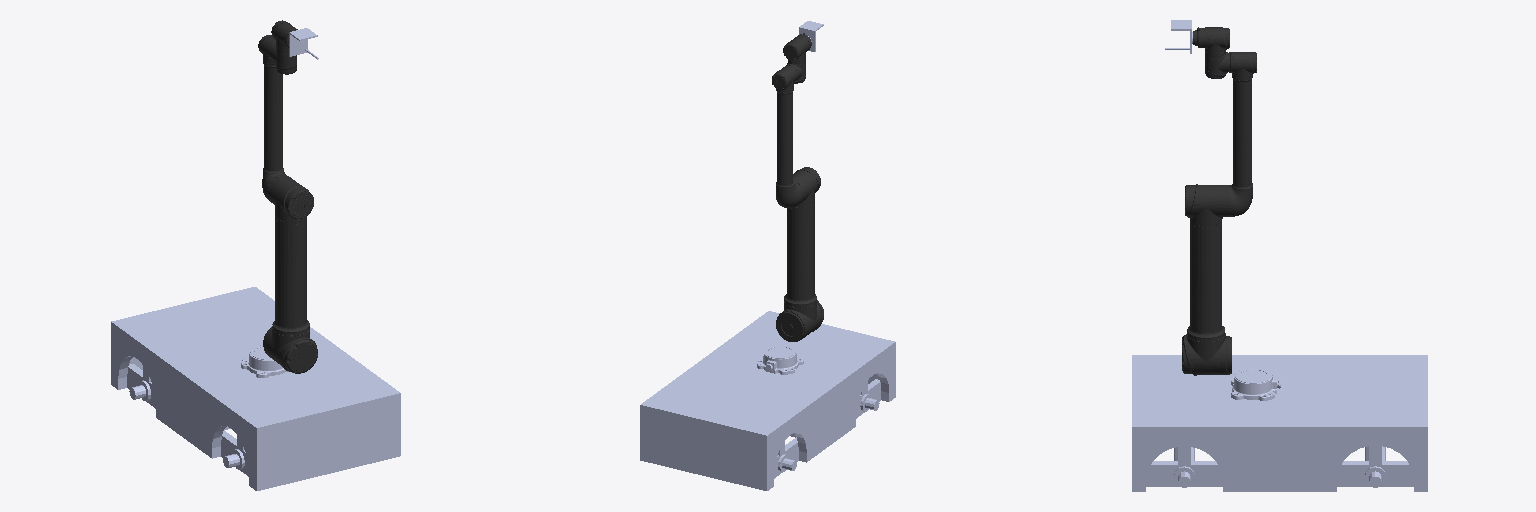
robot.urdf — robot_v2:
<?xml version='1.0' encoding='utf-8'?>
<robot name="robot_v2">
    <link name="virtual_base0">
    </link>
    <link name="virtual_base1">
    </link>
    <joint name="virtual_base_joint1" type="revolute">
      <origin rpy="0 0 0" xyz="0 0 0" />
      <parent link="virtual_base0" />
      <child link="virtual_base1" />
      <axis xyz="0 0 1" />
      <limit effort="87" lower="-999999" upper="999999" velocity="3.5" />
    </joint>
    <joint name="virtual_base_joint2" type="prismatic">
      <origin rpy="0 0 0" xyz="0 0 0" />
      <parent link="virtual_base1" />
      <child link="base_link" />
      <axis xyz="0 1 0" /> 
      <limit effort="87" lower="-999999" upper="999999" velocity="3.5" />
    </joint>
    
  <link name="base_link">
    <inertial> 
      <origin rpy="0 0 0" xyz="-7.22287839337554E-05 -0.00215295361631975 0.324863596005363" />
      <mass value="165.61036422321" />
      <inertia ixx="32.965361421801" ixy="-4.58943188877295E-10" ixz="-2.30197800542194E-10" iyy="12.6332666224088" iyz="-0.000847797837113684" izz="42.003560166963" />
    </inertial>
    <visual>
      <origin rpy="0 0 0" xyz="0 0 0" />
      <geometry>
        <mesh filename="package://robot_description/meshes/base_link.STL" />
      </geometry>
      <material name="">
        <color rgba="0.792156862745098 0.819607843137255 0.933333333333333 1" />
      </material>
    </visual>
    <collision>
      <origin rpy="0 0 0" xyz="0 0 0" />
      <geometry>
        <mesh filename="package://robot_description/meshes/base_link.STL" />
      </geometry>
    </collision>
  </link>
  
  <link name="link1">
    <inertial>
      <origin rpy="0 0 0" xyz="-0.00794920674955624 -1.78415172156048E-05 0.0962050288057547" />
      <mass value="6.3997963235939" />
      <inertia ixx="0.0386968105399522" ixy="3.18422119967618E-06" ixz="0.000278068450970961" iyy="0.0403824669357166" iyz="1.29129590060104E-05" izz="0.0302124483192918" />
    </inertial>
    <visual>
      <origin rpy="0 0 0" xyz="0 0 0" />
      <geometry>
        <mesh filename="package://robot_description/meshes/link1.STL" />
      </geometry>
      <material name="">
        <color rgba="0.250980392156863 0.250980392156863 0.250980392156863 1" />
      </material>
    </visual>
    <collision>
      <origin rpy="0 0 0" xyz="0 0 0" />
      <geometry>
        <mesh filename="package://robot_description/meshes/link1.STL" />
      </geometry>
    </collision>
  </link>
  <joint name="j1" type="revolute">
    <origin xyz="-0.005 -0.126 0.536" rpy="0 0 1.5708" />
    <parent link="base_link" />
    
    <child link="link1" />
    <axis xyz="0 0 1" />
    <limit effort="87" lower="-6.283185" upper="6.283185" velocity="1.62" />
  </joint>
  <link name="link2">
    <inertial>
      <origin rpy="0 0 0" xyz="-0.356587738253141 -5.20041231720329E-06 0.0932252364057431" />
      <mass value="22.2940088807678" />
      <inertia ixx="0.0974900452024959" ixy="3.08604301056751E-06" ixz="0.000327194536900443" iyy="0.455754558388555" iyz="1.35730362482013E-05" izz="0.434619057566455" />
    </inertial>
    <visual>
      <origin rpy="0 0 0" xyz="0 0 0" />
      <geometry>
        <mesh filename="package://robot_description/meshes/link2.STL" />
      </geometry>
      <material name="">
        <color rgba="0.250980392156863 0.250980392156863 0.250980392156863 1" />
      </material>
    </visual>
    <collision>
      <origin rpy="0 0 0" xyz="0 0 0" />
      <geometry>
        <mesh filename="package://robot_description/meshes/link2.STL" />
      </geometry>
    </collision>
  </link>
  <joint name="j2" type="revolute">
    <origin xyz="-0.126 0 0.094" rpy="3.14159265358979 1.5707963267949 0" />
    <parent link="link1" />
    <child link="link2" />
    <axis xyz="0 0 1" />
    <limit effort="87" lower="-6.283185" upper="6.283185" velocity="3.10" />
  </joint>
  <link name="link3">
    <inertial>
      <origin rpy="0 0 0" xyz="-0.348727151721816 0.000170002642110669 0.0825873081787098" />
      <mass value="6.4895258475879" />
      <inertia ixx="0.0096756766183381" ixy="-0.00026633857380855" ixz="0.00703002672413942" iyy="0.258252972810647" iyz="1.22132940178923E-05" izz="0.257392693068882" />
    </inertial>
    <visual>
      <origin rpy="0 0 0" xyz="0 0 0" />
      <geometry>
        <mesh filename="package://robot_description/meshes/link3.STL" />
      </geometry>
      <material name="">
        <color rgba="0.250980392156863 0.250980392156863 0.250980392156863 1" />
      </material>
    </visual>
    <collision>
      <origin rpy="0 0 0" xyz="0 0 0" />
      <geometry>
        <mesh filename="package://robot_description/meshes/link3.STL" />
      </geometry>
    </collision>
  </link>
  <joint name="j3" type="revolute">
    <origin xyz="-0.803 0 0.011" rpy="3.14159265358979 0 0" />
    <parent link="link2" />
    <child link="link3" />
    <axis xyz="0 0 1" />
    <limit effort="87" lower="-6.283185" upper="6.283185" velocity="3.10" />
  </joint>
  <link name="link4">
    <inertial>
      <origin rpy="0 0 0" xyz="-0.00242458280433411 -5.44321046245903E-07 0.0661378515123138" />
      <mass value="1.17082580161785" />
      <inertia ixx="0.00159368211297859" ixy="3.14179162607069E-08" ixz="2.49063735370219E-05" iyy="0.00261811685549299" iyz="-1.56654011954233E-08" izz="0.00252852694287355" />
    </inertial>
    <visual>
      <origin rpy="0 0 0" xyz="0 0 0" />
      <geometry>
        <mesh filename="package://robot_description/meshes/link4.STL" />
      </geometry>
      <material name="">
        <color rgba="0.250980392156863 0.250980392156863 0.250980392156863 1" />
      </material>
    </visual>
    <collision>
      <origin rpy="0 0 0" xyz="0 0 0" />
      <geometry>
        <mesh filename="package://robot_description/meshes/link4.STL" />
      </geometry>
    </collision>
  </link>
  <joint name="j4" type="revolute">
    <origin xyz="-0.72 0 0.0298" rpy="3.1416 0 0" />
    <parent link="link3" />
    <child link="link4" />
    <axis xyz="0 0 -1" />
    <limit effort="87" lower="-6.283185" upper="6.283185" velocity="3.10" />
  </joint>
  <link name="link5">
    <inertial>
      <origin rpy="0 0 0" xyz="0.00242458409241891 5.44635340153643E-07 0.0656378507065249" />
      <mass value="1.17082576064318" />
      <inertia ixx="0.00159368204736647" ixy="3.14422586641897E-08" ixz="-2.49064085094777E-05" iyy="0.00261811675462377" iyz="1.56549712758359E-08" izz="0.00252852684795983" />
    </inertial>
    <visual>
      <origin rpy="0 0 0" xyz="0 0 0" />
      <geometry>
        <mesh filename="package://robot_description/meshes/link5.STL" />
      </geometry>
      <material name="">
        <color rgba="0.250980392156863 0.250980392156863 0.250980392156863 1" />
      </material>
    </visual>
    <collision>
      <origin rpy="0 0 0" xyz="0 0 0" />
      <geometry>
        <mesh filename="package://robot_description/meshes/link5.STL" />
      </geometry>
    </collision>
  </link>
  <joint name="j5" type="revolute">
    <origin xyz="-0.0577 0 0.0698" rpy="0 -1.5708 0" /> 
    <parent link="link4" />
    <child link="link5" />
    <axis xyz="0 0 -1" />
    <limit effort="87" lower="-6.283185" upper="6.283185" velocity="3.10" />
  </joint>
  <link name="link6">
    <inertial>
      <origin rpy="0 0 0" xyz="0.000135655130766299 -8.37139877037096E-09 0.0281910703710159" />
      <mass value="0.166085108652433" />
      <inertia ixx="9.48731067402748E-05" ixy="-5.77777351325843E-11" ixz="4.38703666212798E-07" iyy="9.13908413524008E-05" iyz="2.03433472099079E-13" izz="0.00015901210576961" />
    </inertial>
    <visual>
      <origin rpy="0 0 0" xyz="0 0 0" />
      <geometry>
        <mesh filename="package://robot_description/meshes/link6.STL" />
      </geometry>
      <material name="">
        <color rgba="0.250980392156863 0.250980392156863 0.250980392156863 1" />
      </material>
    </visual>
    <collision>
      <origin rpy="0 0 0" xyz="0 0 0" />
      <geometry>
        <mesh filename="package://robot_description/meshes/link6.STL" />
      </geometry>
    </collision>
  </link>
  <joint name="j6" type="revolute">
    <origin xyz="0.0577 0 0.06955" rpy="0 1.5708 0" />
    <parent link="link5" />
    <child link="link6" />
    <axis xyz="0 0 1" />
    <limit effort="87" lower="-6.283185" upper="6.283185" velocity="1.62" />
  </joint>
  
  <link name="grasp_base_link">
    <inertial>
      
      <origin rpy="0 0 0" xyz="0 0 0" />
      <mass value="0.110137166941154" />
      <inertia ixx="0.000119442941686907" ixy="-2.18819689009832E-21" ixz="1.00533007844443E-20" iyy="0.000201561725123519" iyz="-5.82720918507605E-21" izz="8.42429416869073E-05" />
    </inertial>
    <visual>
      <origin rpy="0 0 0" xyz="0 0 0" />
      <geometry>
        <mesh filename="package://robot_description/meshes/grasp_base_link.STL" />
      </geometry>
      <material name="">
        <color rgba="0.792156862745098 0.819607843137255 0.933333333333333 1" />
      </material>
    </visual>
    <collision>
      <origin rpy="0 0 0" xyz="0 0 0" />
      <geometry>
        <mesh filename="package://robot_description/meshes/grasp_base_link.STL" />
      </geometry>
    </collision>
  </link>
  <link name="ld">
    <inertial>
      <origin rpy="0 0 0" xyz="-8.61561256365606E-19 0.02 0.004" />
      <mass value="0.08" />
      <inertia ixx="6.70933333333333E-05" ixy="2.52899986831941E-20" ixz="-1.69445820945071E-20" iyy="6.70933333333333E-05" iyz="-4.22319333728353E-22" izz="0.000133333333333333" />
    </inertial>
    <visual>
      <origin rpy="0 0 0" xyz="0 0 0" />
      <geometry>
        <mesh filename="package://robot_description/meshes/ld.STL" />
      </geometry>
      <material name="">
        <color rgba="0.792156862745098 0.819607843137255 0.933333333333333 1" />
      </material>
    </visual>
    <collision>
      <origin rpy="0 0 0" xyz="0 0 0" />
      <geometry>
        <mesh filename="package://robot_description/meshes/ld.STL" />
      </geometry>
    </collision>
  </link>
  <joint name="jd" type="fixed">
    <origin rpy="0 0 3.1416" xyz="0 -0.035 -0.068" />
    <parent link="grasp_base_link" />
    <child link="ld" />
    <axis xyz="0 0 0" />
  </joint>
  <link name="lu1">
    <inertial>
      <origin rpy="0 0 0" xyz="0 0 0.06" />
      <mass value="0.00942477796076938" />
      <inertia ixx="1.13686384151781E-05" ixy="-1.99136488891556E-56" ixz="1.19366462190883E-38" iyy="1.13686384151781E-05" iyz="-5.46392484019368E-39" izz="1.17809724509617E-07" />
    </inertial>
    <visual>
      <origin rpy="0 0 0" xyz="0 0 0" />
      <geometry>
        <mesh filename="package://robot_description/meshes/lu1.STL" />
      </geometry>
      <material name="">
        <color rgba="0.792156862745098 0.819607843137255 0.933333333333333 1" />
      </material>
    </visual>
    <collision>
      <origin rpy="0 0 0" xyz="0 0 0" />
      <geometry>
        <mesh filename="package://robot_description/meshes/lu1.STL" />
      </geometry>
    </collision>
  </link>
  <joint name="ju1" type="fixed">
    <origin rpy="1.5708 0 0" xyz="-0.035 -0.013 0.04" />
    <parent link="grasp_base_link" />
    <child link="lu1" />
    <axis xyz="0 0 0" />
  </joint>
  <link name="lu2">
    <inertial>
      <origin rpy="0 0 0" xyz="-6.93889390390723E-18 0 0.06" />
      <mass value="0.00942477796076938" />
      <inertia ixx="1.13686384151781E-05" ixy="-1.99136488891556E-56" ixz="1.19366462190883E-38" iyy="1.13686384151781E-05" iyz="-5.46392484019368E-39" izz="1.17809724509617E-07" />
    </inertial>
    <visual>
      <origin rpy="0 0 0" xyz="0 0 0" />
      <geometry>
        <mesh filename="package://robot_description/meshes/lu2.STL" />
      </geometry>
      <material name="">
        <color rgba="0.792156862745098 0.819607843137255 0.933333333333333 1" />
      </material>
    </visual>
    <collision>
      <origin rpy="0 0 0" xyz="0 0 0" />
      <geometry>
        <mesh filename="package://robot_description/meshes/lu2.STL" />
      </geometry>
    </collision>
  </link>
  <joint name="ju2" type="fixed">
    <origin rpy="1.5708 0 0" xyz="0.035 -0.013 0.04" />
    <parent link="grasp_base_link" />
    <child link="lu2" />
    <axis xyz="0 0 0" />
  </joint>
  <joint name="joint_grasp" type="fixed">
    <parent link="link6" />
    <child link="grasp_base_link" />
    <origin rpy="-1.5708 0 -1.5708" xyz="0 0 0.04877" />
  </joint>

  <joint name="joint_tool0" type="fixed">
    <parent link="grasp_base_link" />
    <child link="tool0" />
    <origin rpy="0 0 0" xyz="0 -0.02 0" />
  </joint>

  <link name="tool0">
  </link>
</robot>

--- Facts derived from the render (not from the file) ---
Views: 3 orthographic renders of the robot side by side, from view 1: azimuth 30°, elevation 25°; view 2: azimuth 150°, elevation 25°; view 3: azimuth 270°, elevation 25°.
Model robot_v2 with 14 links and 13 joints (7 revolute, 1 prismatic, 5 fixed), rooted at virtual_base0, posed every joint at zero.
Links seen in each view (by area): view 1: base_link, link2, link3; view 2: base_link, link2, link3; view 3: base_link, link2, link3, link5, link4.
Link boxes in pixels (x1,y1,x2,y2): base_link: (111, 287, 400, 490); link2: (263, 175, 317, 373); link3: (258, 35, 290, 199); base_link: (640, 311, 895, 490); link2: (776, 167, 823, 341); link3: (772, 65, 802, 207); base_link: (1132, 355, 1427, 491); link2: (1182, 184, 1231, 375); link3: (1228, 52, 1256, 216); link5: (1202, 27, 1229, 53); link4: (1205, 50, 1227, 78).
Size in the robot's own frame: 0.85 by 1.4 by 2.24 metres.
Meshes: 11 distinct files referenced, 9 mesh visuals loaded (9 binary STL); not drawn: 2 (reference not matched to a file when rendering).
